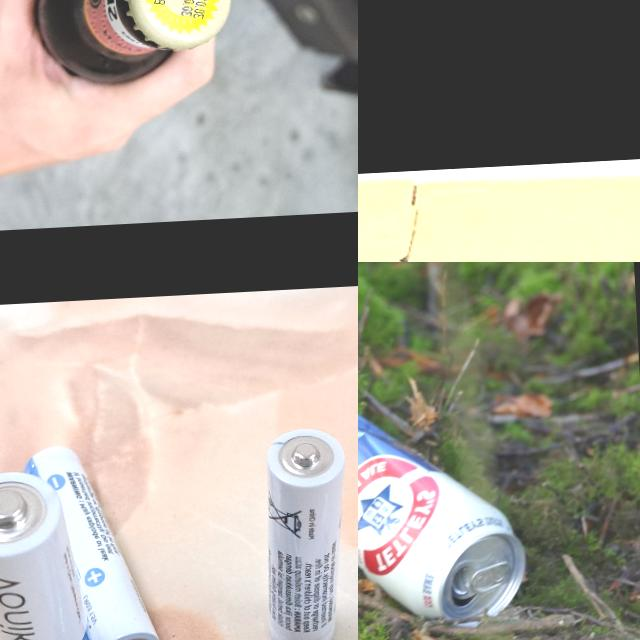aba de lata: (469, 562, 514, 594)
bateria: (23, 445, 163, 640), (260, 426, 354, 640), (0, 464, 105, 640)
garrafa de vidro: (29, 0, 235, 87)
lata: (358, 372, 529, 638)
papelão: (358, 150, 640, 262)
